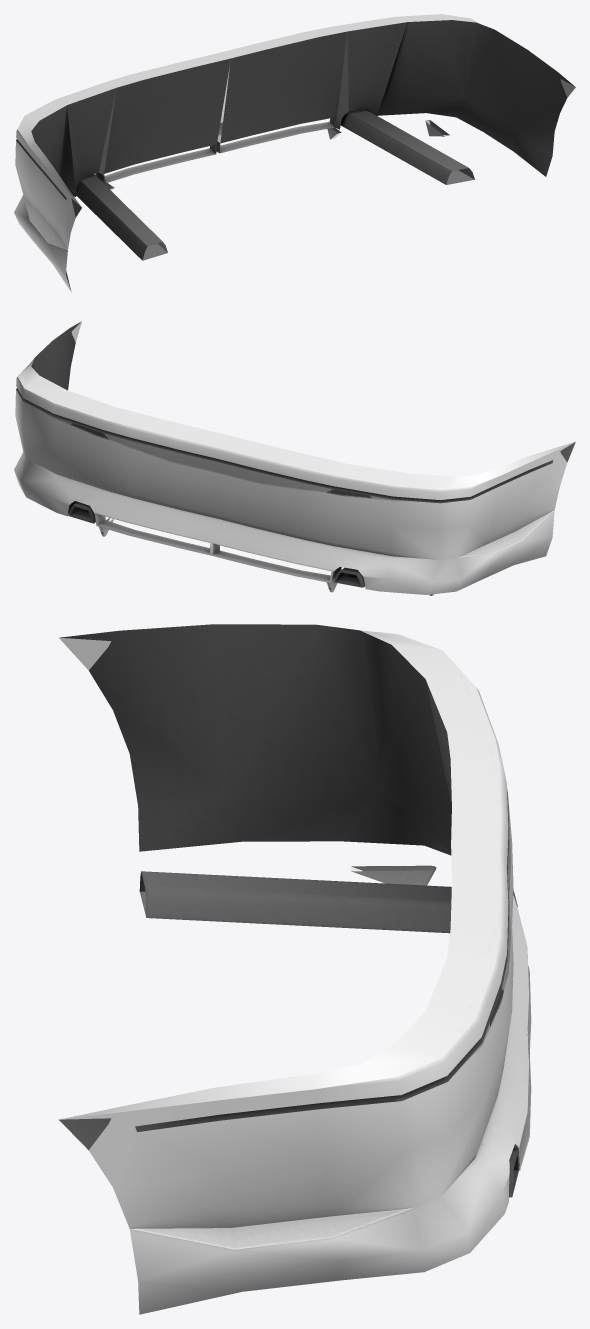
The model's file is Sport_2_Bumper_B_2.fbx.
3 renders of one model, top to bottom at view 1: azimuth 30°, elevation 25°; view 2: azimuth 150°, elevation 25°; view 3: azimuth 270°, elevation 25°, orthographic. The views are drawn at different scales.
Visible parts, largest first — view 1: Sport_2_Bumper_B_2; view 2: Sport_2_Bumper_B_2; view 3: Sport_2_Bumper_B_2.
Part boxes in pixels (box(x1,y1,x2,y2)): Sport_2_Bumper_B_2: box(14, 14, 575, 292); Sport_2_Bumper_B_2: box(14, 321, 575, 595); Sport_2_Bumper_B_2: box(59, 624, 531, 1314).
Bounding box in the file's own units: 179 × 41.42 × 74.21.
